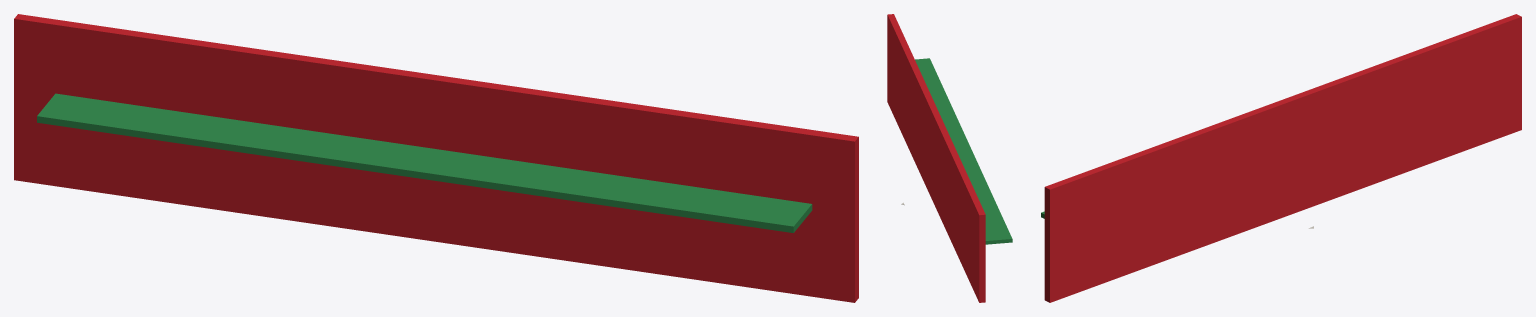
File: sn_fengwei.glb
3 renders of one model, left to right at view 1: azimuth 30°, elevation 25°; view 2: azimuth 150°, elevation 25°; view 3: azimuth 270°, elevation 25°, orthographic. The views are drawn at different scales.
Parts seen in each view (by area): view 1: sn_fengwei_lod0; view 2: sn_fengwei_lod0; view 3: sn_fengwei_lod0.
Part boxes in pixels (x1,y1,x2,y2): sn_fengwei_lod0: (14,14,858,302); sn_fengwei_lod0: (887,14,1012,302); sn_fengwei_lod0: (1041,14,1521,302).
Size of what is drawn, in the model's own units: 15 by 4.4 by 16.92.
